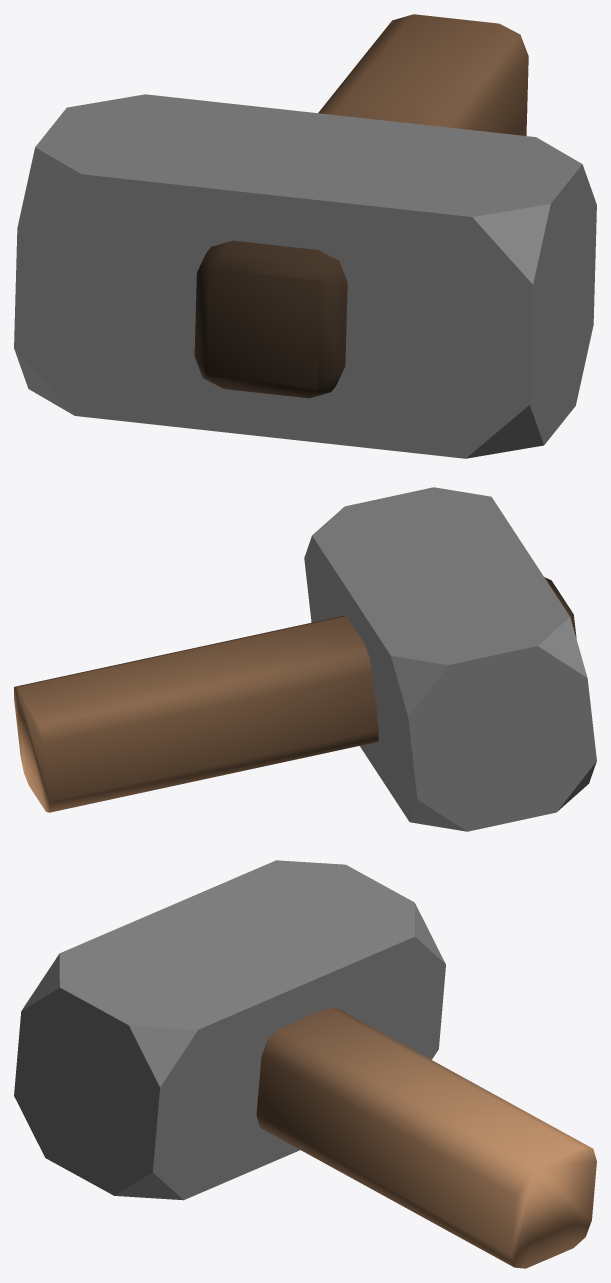
File: marreta.fbx
The picture shows the model from 3 angles, top to bottom: view 1: azimuth 30°, elevation 25°; view 2: azimuth 150°, elevation 25°; view 3: azimuth 270°, elevation 25°; orthographic projection. The views are drawn at different scales.
Parts seen in each view (by area): view 1: marreta; view 2: marreta; view 3: marreta.
Boxes of the visible parts, x1,y1,x2,y2 form: marreta: [14, 14, 596, 458]; marreta: [14, 487, 596, 831]; marreta: [14, 860, 596, 1268].
Bounding box in the file's own units: 66.45 × 24.69 × 66.84.
